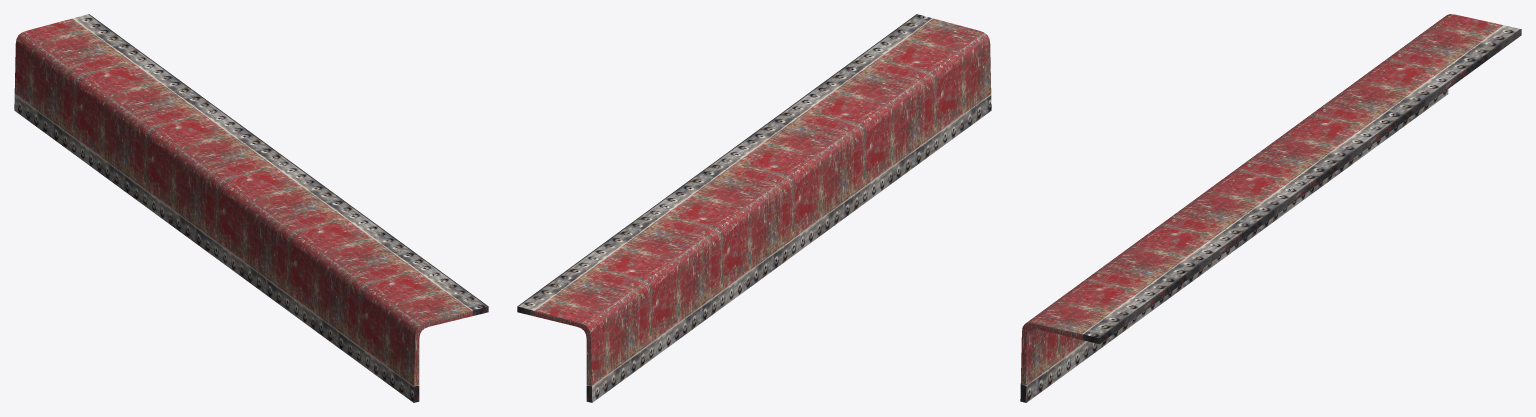
The model's file is MOD_WallProtect_500.FBX.
3 views of the same model, side by side, from view 1: azimuth 30°, elevation 25°; view 2: azimuth 150°, elevation 25°; view 3: azimuth 330°, elevation 25° (orthographic). The views are drawn at different scales.
Parts seen in each view (by area): view 1: MOD_WallProtect_500; view 2: MOD_WallProtect_500; view 3: MOD_WallProtect_500.
Boxes of the visible parts, <box> form: MOD_WallProtect_500: <box>14,14,488,402</box>; MOD_WallProtect_500: <box>517,14,991,402</box>; MOD_WallProtect_500: <box>1020,14,1521,402</box>.
Bounding box in the file's own units: 54.07 × 54.07 × 500.
1 material, 1 textured.
